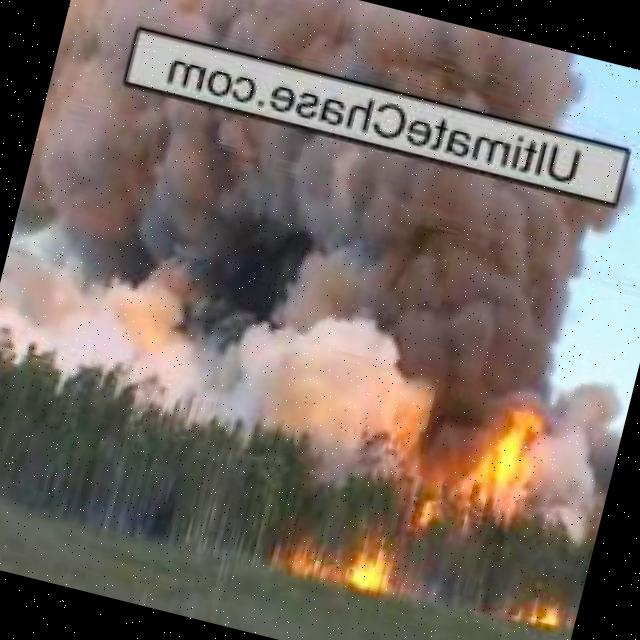fire: (413, 376, 551, 545), (347, 526, 403, 592), (522, 589, 561, 630), (283, 545, 318, 577)
